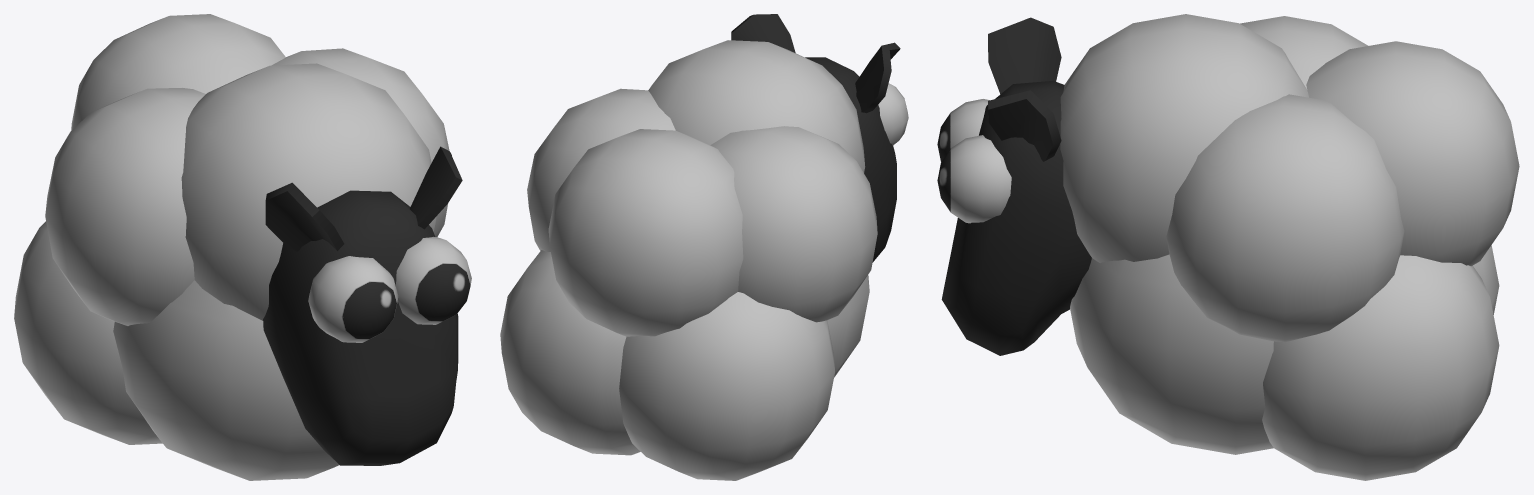
The model's file is Farm_Animal_Sheep_02.fbx.
The picture shows the model from 3 angles, left to right: view 1: azimuth 30°, elevation 25°; view 2: azimuth 150°, elevation 25°; view 3: azimuth 270°, elevation 25°; orthographic projection. The views are drawn at different scales.
Visible parts, largest first — view 1: Farm_Animal_Sheep_02; view 2: Farm_Animal_Sheep_02; view 3: Farm_Animal_Sheep_02.
Boxes of the visible parts, x1=… form: Farm_Animal_Sheep_02: x1=14, y1=14, x2=471, y2=480; Farm_Animal_Sheep_02: x1=500, y1=14, x2=908, y2=480; Farm_Animal_Sheep_02: x1=937, y1=14, x2=1519, y2=480.
Size of the model in its own units: 70.39 by 73.13 by 94.53.
